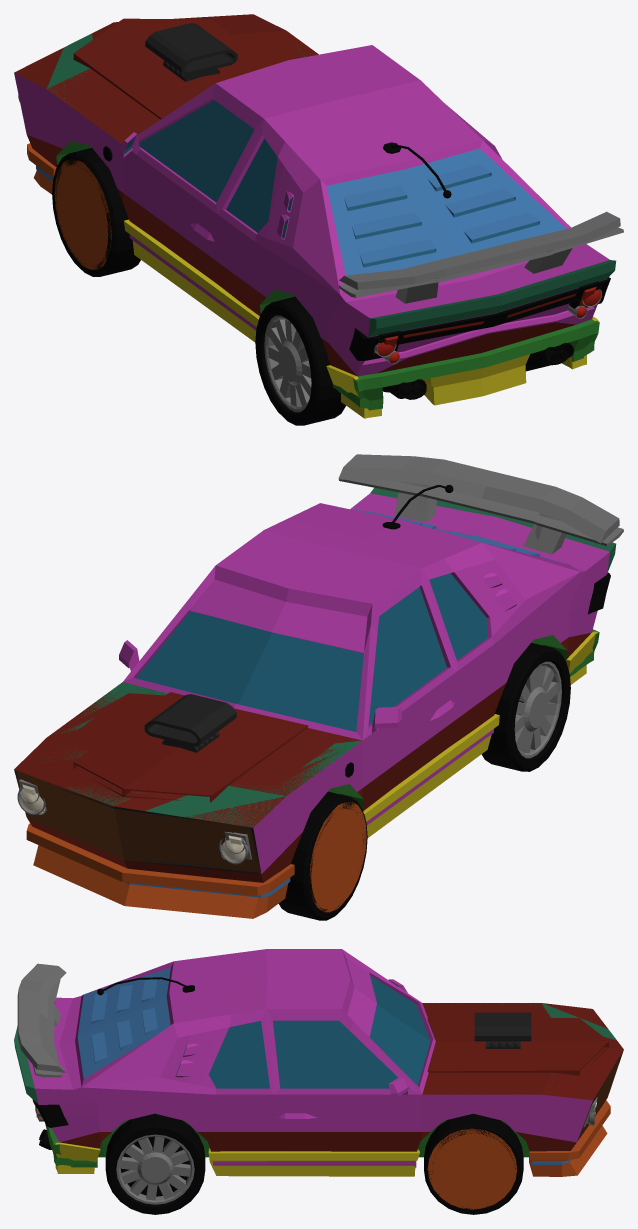
Rendered from car.glb.
The picture shows the model from 3 angles, top to bottom: view 1: azimuth 30°, elevation 25°; view 2: azimuth 150°, elevation 25°; view 3: azimuth 270°, elevation 25°; orthographic projection. The views are drawn at different scales.
Visible parts, largest first — view 1: Car_core_upper, BackWindow, Car_core_windows, Hood.001, Wheels, Hood.000, Car_core_lower, Spoiler.002, BackBumper.000, Spoiler.000, Wheels.000, BackBumper.001 (+14 smaller); view 2: Car_core_upper, Car_core_windows, Hood.001, Hood.000, Spoiler.002, FrontBumper.001, Grille.000, Wheels, Car_core_lower, Sunstrip, Hood.002, Wheels.000 (+11 smaller); view 3: Car_core_upper, Car_core_windows, Hood.001, Wheels, Hood.000, BackWindow, Wheels.000, Car_core_lower, Skirts.001, Rims, Spoiler.002, SideWindow (+13 smaller).
Boxes of the visible parts, x1=… form: Car_core_upper: x1=14, y1=45, x2=609, y2=376; BackWindow: x1=326, y1=148, x2=566, y2=275; Car_core_windows: x1=124, y1=100, x2=538, y2=266; Hood.001: x1=15, y1=18, x2=317, y2=142; Wheels: x1=52, y1=148, x2=551, y2=425; Hood.000: x1=15, y1=14, x2=318, y2=143; Car_core_lower: x1=27, y1=134, x2=575, y2=375; Spoiler.002: x1=339, y1=211, x2=620, y2=303; BackBumper.000: x1=333, y1=319, x2=599, y2=410; Spoiler.000: x1=368, y1=260, x2=616, y2=336; Wheels.000: x1=54, y1=159, x2=111, y2=269; BackBumper.001: x1=326, y1=317, x2=598, y2=418; Car_core_upper: x1=119, y1=493, x2=609, y2=873; Car_core_windows: x1=136, y1=573, x2=487, y2=731; Hood.001: x1=25, y1=692, x2=359, y2=826; Hood.000: x1=14, y1=690, x2=361, y2=827; Spoiler.002: x1=338, y1=454, x2=619, y2=554; FrontBumper.001: x1=26, y1=823, x2=294, y2=918; Grille.000: x1=14, y1=769, x2=260, y2=873; Wheels: x1=278, y1=642, x2=570, y2=920; Car_core_lower: x1=27, y1=632, x2=591, y2=882; Sunstrip: x1=189, y1=579, x2=367, y2=653; Hood.002: x1=40, y1=682, x2=361, y2=827; Wheels.000: x1=309, y1=801, x2=366, y2=912; Car_core_upper: x1=27, y1=949, x2=592, y2=1142; Car_core_windows: x1=91, y1=975, x2=430, y2=1088; Hood.001: x1=422, y1=1003, x2=622, y2=1098; Wheels: x1=105, y1=1113, x2=523, y2=1214; Hood.000: x1=422, y1=1003, x2=623, y2=1100; BackWindow: x1=77, y1=968, x2=170, y2=1078; Wheels.000: x1=427, y1=1128, x2=516, y2=1209; Car_core_lower: x1=59, y1=1103, x2=603, y2=1151; Skirts.001: x1=208, y1=1148, x2=419, y2=1176; Rims: x1=116, y1=1134, x2=194, y2=1204; Spoiler.002: x1=17, y1=963, x2=66, y2=1072; SideWindow: x1=160, y1=1027, x2=228, y2=1088.
Size of the model in its own units: 3.44 by 2.85 by 8.33.
